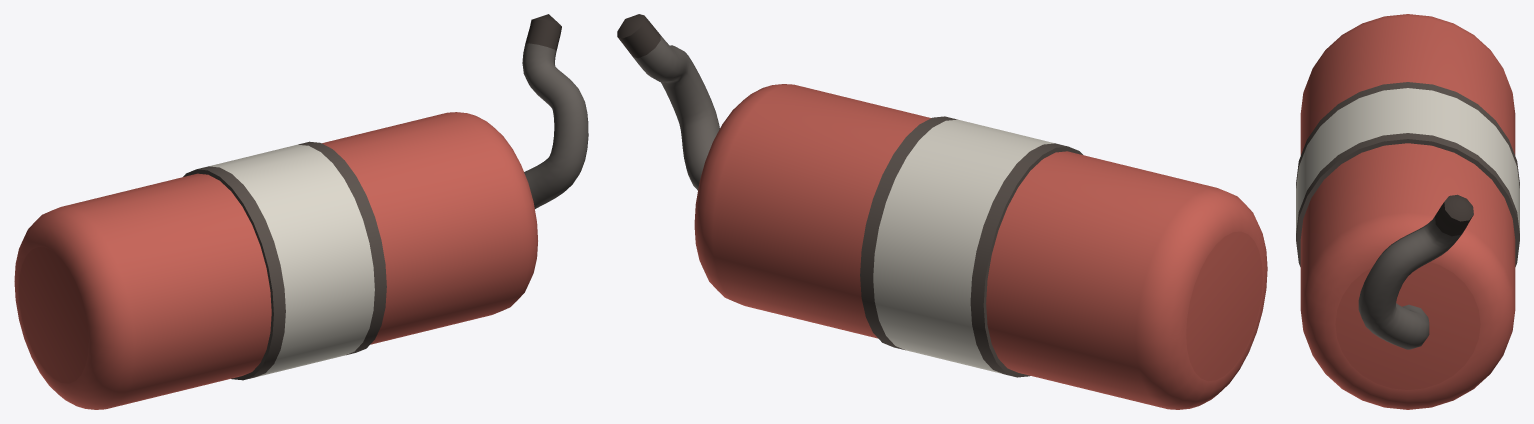
The model's file is dynamite_c_stick_red.glb.
The picture shows the model from 3 angles, left to right: view 1: azimuth 30°, elevation 25°; view 2: azimuth 150°, elevation 25°; view 3: azimuth 270°, elevation 25°; orthographic projection. The views are drawn at different scales.
Parts seen in each view (by area): view 1: Dynamite; view 2: Dynamite; view 3: Dynamite.
Part boxes in pixels (bbox=[...]): Dynamite: bbox=[14, 14, 588, 409]; Dynamite: bbox=[617, 14, 1267, 409]; Dynamite: bbox=[1296, 14, 1519, 409].
Size of the model in its own units: 0.6188 by 0.2836 by 0.219.
